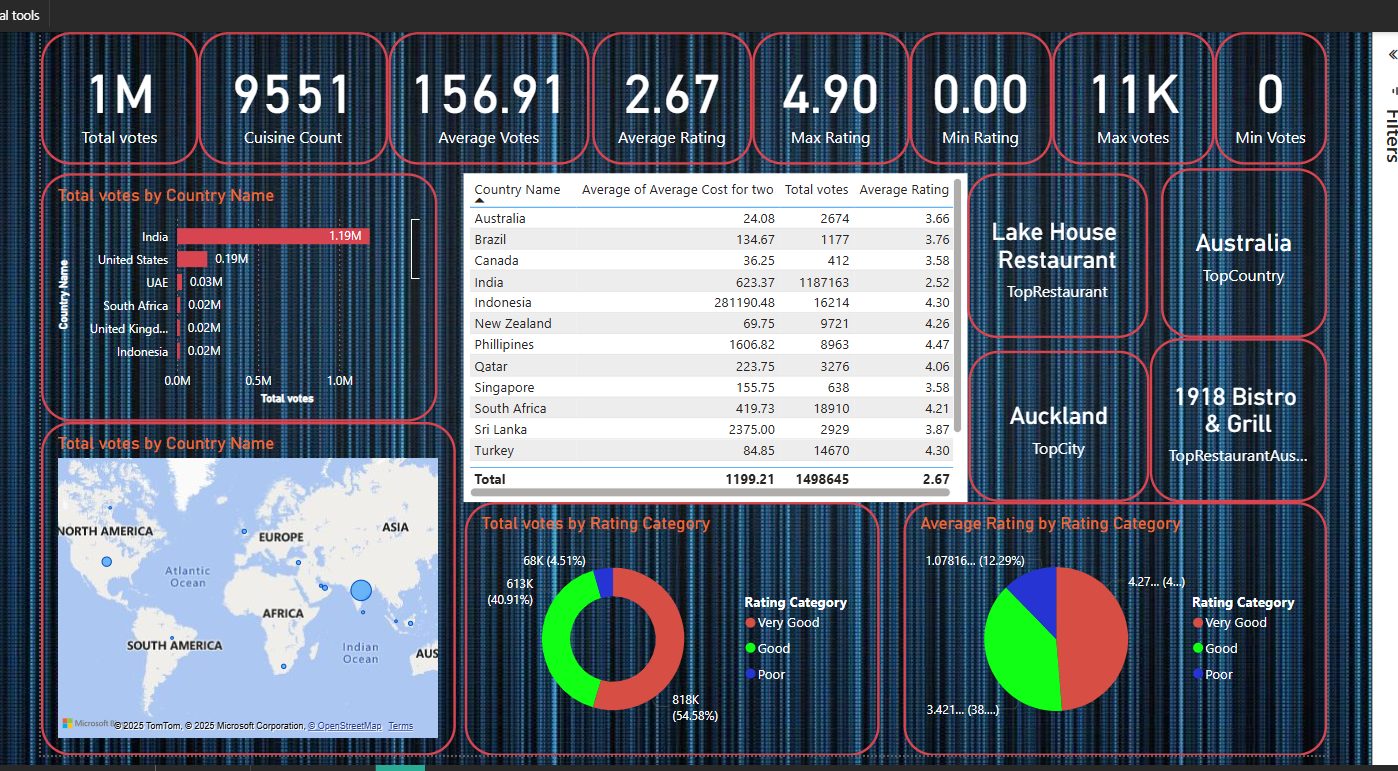

Layout of this report page (visuals, bound fields, positions):
{"tool":"powerbi","page":{"name":"DashBoard","canvas":[1280,720],"ordinal":1},"visuals":[{"type":"barChart","fields":{"Category":["Restaurant Details.Country Name"],"Y":["Measure.Total votes"]},"box":[0,140.6,394.3,247.5],"z":0},{"type":"card","fields":{"Values":["Measure.Total votes"]},"box":[0,0,156.7,131.9],"z":1},{"type":"card","fields":{"Values":["Measure.Cuisine Count"]},"box":[156.7,0,189.1,131.9],"z":2},{"type":"card","fields":{"Values":["Measure.Average Votes"]},"box":[345.8,0,200.3,131.9],"z":3},{"type":"card","fields":{"Values":["Measure.Average Rating"]},"box":[548.6,0,159.2,131.9],"z":4},{"type":"card","fields":{"Values":["Measure.Max Rating"]},"box":[707.8,0,156.7,131.9],"z":5},{"type":"card","fields":{"Values":["Measure.Min Rating"]},"box":[864.6,0,141.8,131.9],"z":6},{"type":"card","fields":{"Values":["Measure.Max votes"]},"box":[1006.4,0,161.7,131.9],"z":7},{"type":"donutChart","fields":{"Category":["Restaurant Details.Rating Category"],"Y":["Measure.Total votes"]},"box":[421.7,467.7,413,252.5],"z":9},{"type":"pieChart","fields":{"Category":["Restaurant Details.Rating Category"],"Y":["Measure.Average Rating"]},"box":[858.3,467.7,421.7,252.5],"z":10},{"type":"map","fields":{"Category":["Restaurant Details.Country Name"],"Size":["Measure.Total votes"]},"box":[0,388.1,413,332.1],"z":11},{"type":"tableEx","fields":{"Values":["Restaurant Details.Country Name","Avg(Restaurant Details.Average Cost for two)","Measure.Total votes","Measure.Average Rating"]},"box":[420.5,140.6,501.3,327.2],"z":13},{"type":"card","fields":{"Values":["Measure.TopRestaurant"]},"box":[921.8,140.6,180.4,164.2],"z":14},{"type":"card","fields":{"Values":["Measure.Min Votes"]},"box":[1168.1,0,112,131.9],"z":15},{"type":"card","fields":{"Values":["Measure.TopCity"]},"box":[923,317.2,180.4,150.5],"z":16},{"type":"card","fields":{"Values":["Measure.TopCountry"]},"box":[1114.6,135.6,165.4,169.2],"z":17},{"type":"card","fields":{"Values":["Measure.TopRestaurantAustralia"]},"box":[1103.4,304.8,176.6,163],"z":18}]}

Visuals, with their boxes in screenshot pixels (x1, y1, x2, y2):
barChart - Restaurant Details.Country Name x Measure.Total votes: <box>55,169,457,421</box>
card - Measure.Total votes: <box>55,25,214,160</box>
card - Measure.Cuisine Count: <box>214,25,407,160</box>
card - Measure.Average Votes: <box>407,25,611,160</box>
card - Measure.Average Rating: <box>614,25,776,160</box>
card - Measure.Max Rating: <box>776,25,936,160</box>
card - Measure.Min Rating: <box>936,25,1081,160</box>
card - Measure.Max votes: <box>1081,25,1246,160</box>
donutChart - Restaurant Details.Rating Category x Measure.Total votes: <box>485,502,906,760</box>
pieChart - Restaurant Details.Rating Category x Measure.Average Rating: <box>930,502,1360,760</box>
map - Restaurant Details.Country Name x Measure.Total votes: <box>55,421,476,760</box>
tableEx - Restaurant Details.Country Name x Avg(Restaurant Details.Average Cost for two): <box>483,169,995,502</box>
card - Measure.TopRestaurant: <box>995,169,1178,336</box>
card - Measure.Min Votes: <box>1246,25,1360,160</box>
card - Measure.TopCity: <box>996,349,1180,502</box>
card - Measure.TopCountry: <box>1191,164,1360,336</box>
card - Measure.TopRestaurantAustralia: <box>1180,336,1360,502</box>
